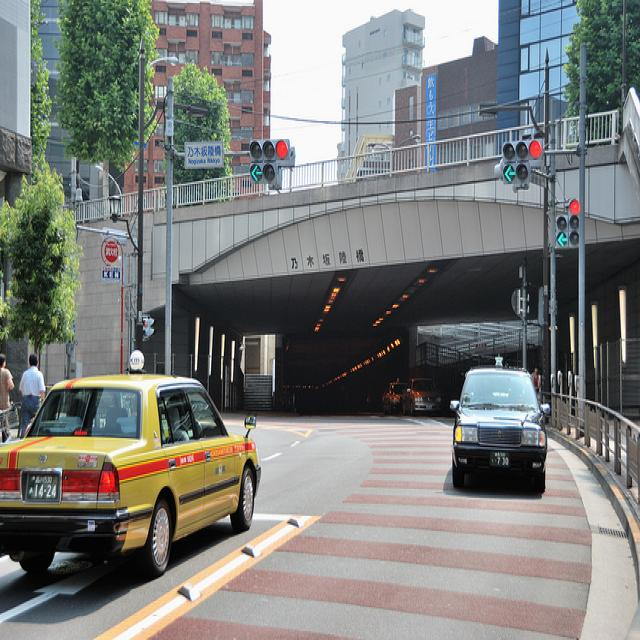Vehicle: (0, 370, 262, 578), (451, 364, 551, 492), (402, 375, 442, 418), (382, 377, 408, 414)
